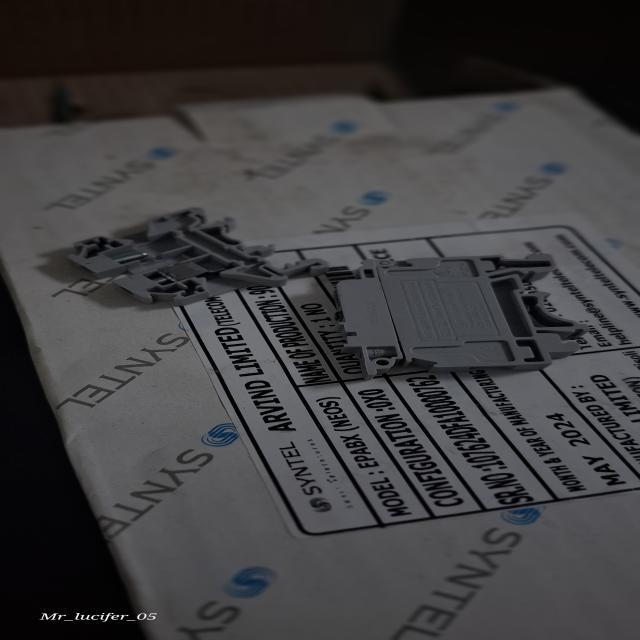Inverted: (316, 239, 603, 395)
Pass: (57, 204, 316, 314)
